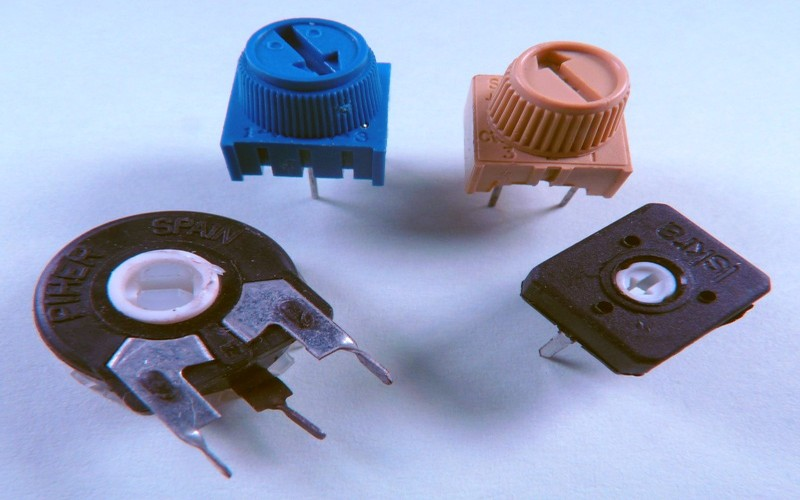Resistor: (23, 23, 800, 478)
